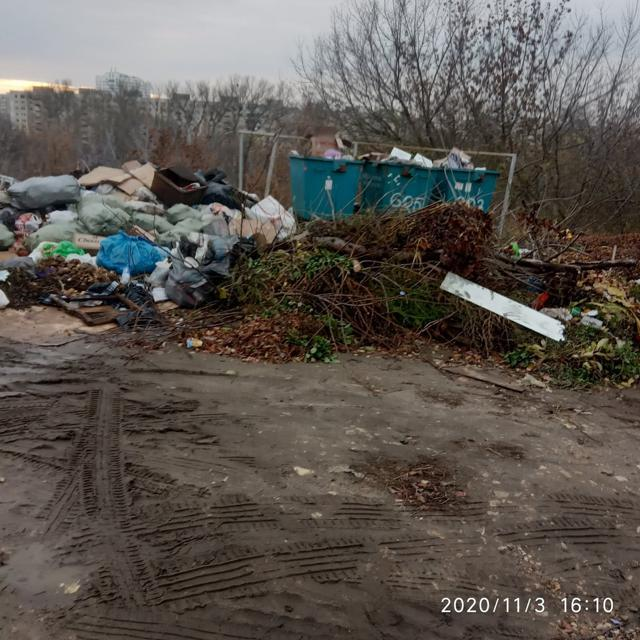lixeira: (1, 171, 296, 272), (444, 267, 572, 343), (304, 126, 361, 158), (374, 145, 431, 169), (570, 302, 604, 332), (437, 148, 481, 169), (512, 237, 546, 264)
